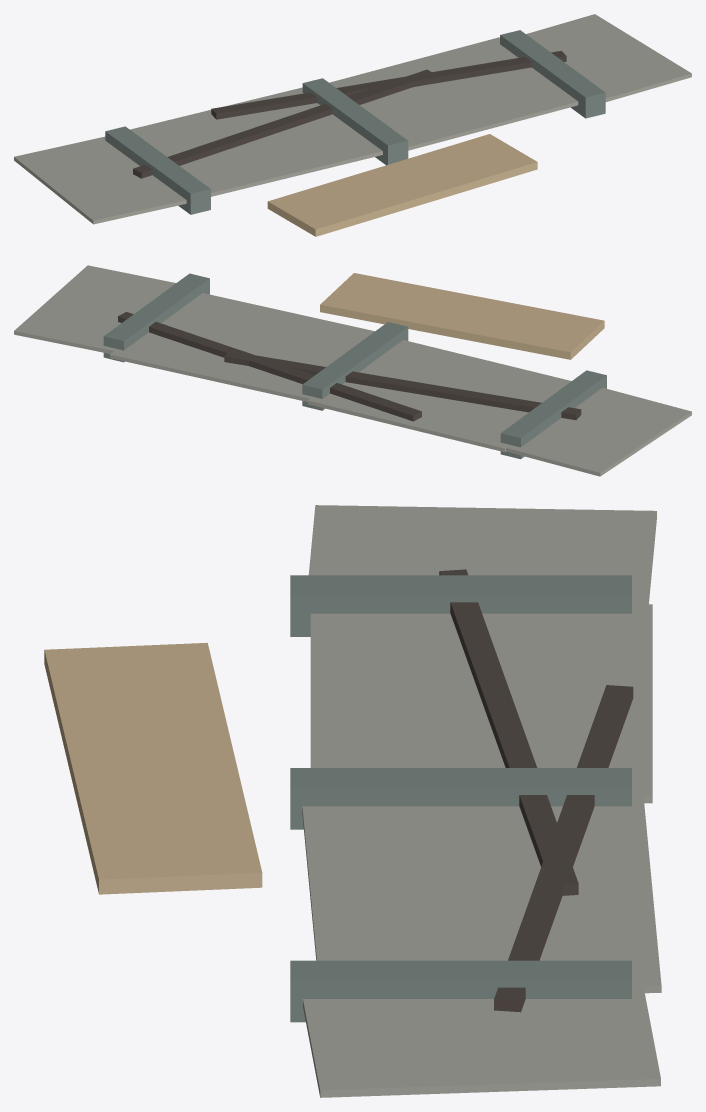
Rendered from SM_VallaBetera_Malla_e4_Brecha_LOD1.fbx.
The picture shows the model from 3 angles, top to bottom: view 1: azimuth 30°, elevation 25°; view 2: azimuth 150°, elevation 25°; view 3: azimuth 270°, elevation 25°; orthographic projection. The views are drawn at different scales.
Visible parts, largest first — view 1: SM_valla_estados_v4_LOD1; view 2: SM_valla_estados_v4_LOD1; view 3: SM_valla_estados_v4_LOD1.
Boxes of the visible parts, x1,y1,x2,y2 form: SM_valla_estados_v4_LOD1: (14,14,691,236); SM_valla_estados_v4_LOD1: (14,265,691,476); SM_valla_estados_v4_LOD1: (44,505,661,1097).
Bounding box in the file's own units: 10.13 × 0.34 × 4.51.
